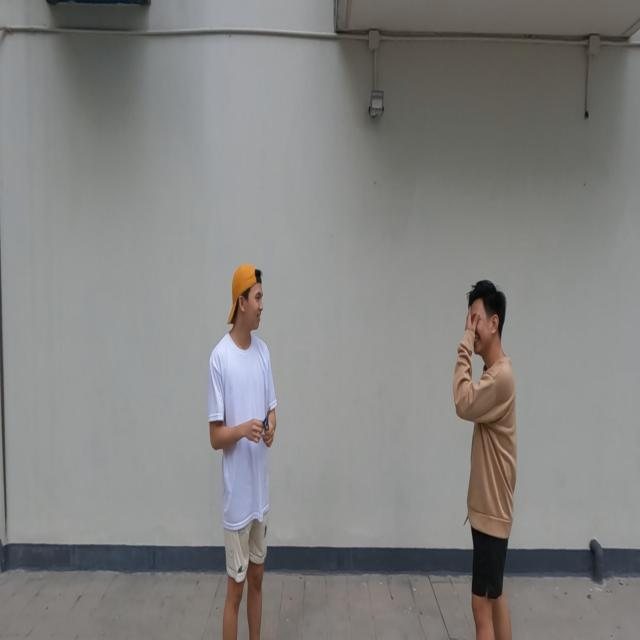scissor: (261, 405, 271, 432)
